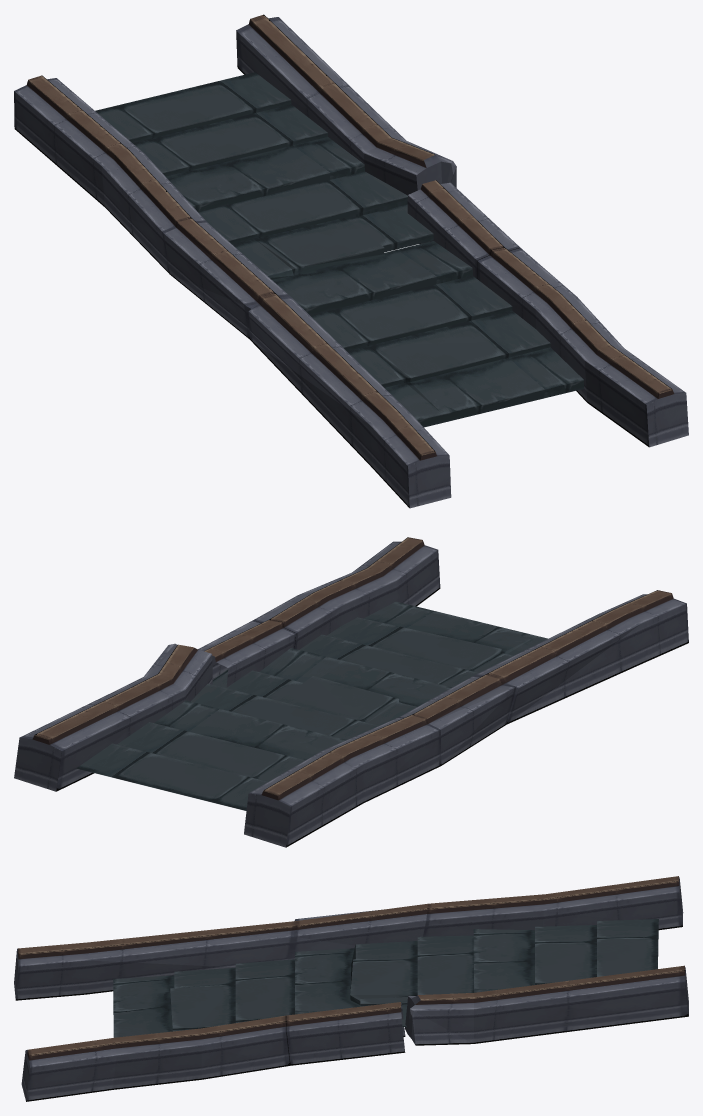
Rendered from yw_ziyuanpingtai_guodao_004.FBX.
3 views of the same model, one above another, from view 1: azimuth 30°, elevation 25°; view 2: azimuth 150°, elevation 25°; view 3: azimuth 270°, elevation 25° (orthographic). The views are drawn at different scales.
Visible parts, largest first — view 1: yw_ziyuanpingtai_guodao_004; view 2: yw_ziyuanpingtai_guodao_004; view 3: yw_ziyuanpingtai_guodao_004.
Boxes of the visible parts, x1=… form: yw_ziyuanpingtai_guodao_004: x1=14, y1=14, x2=688, y2=508; yw_ziyuanpingtai_guodao_004: x1=14, y1=537, x2=688, y2=847; yw_ziyuanpingtai_guodao_004: x1=14, y1=876, x2=688, y2=1101.
Size of the model in its own units: 249 by 117 by 606.
